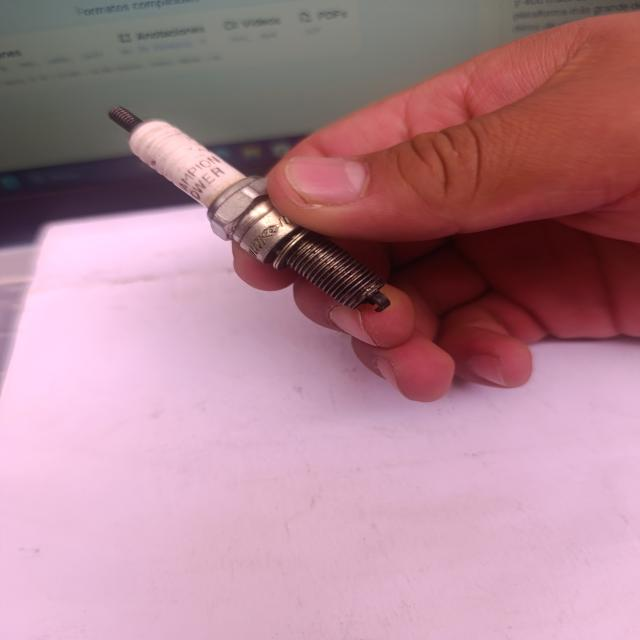bujia: (109, 107, 390, 312)
